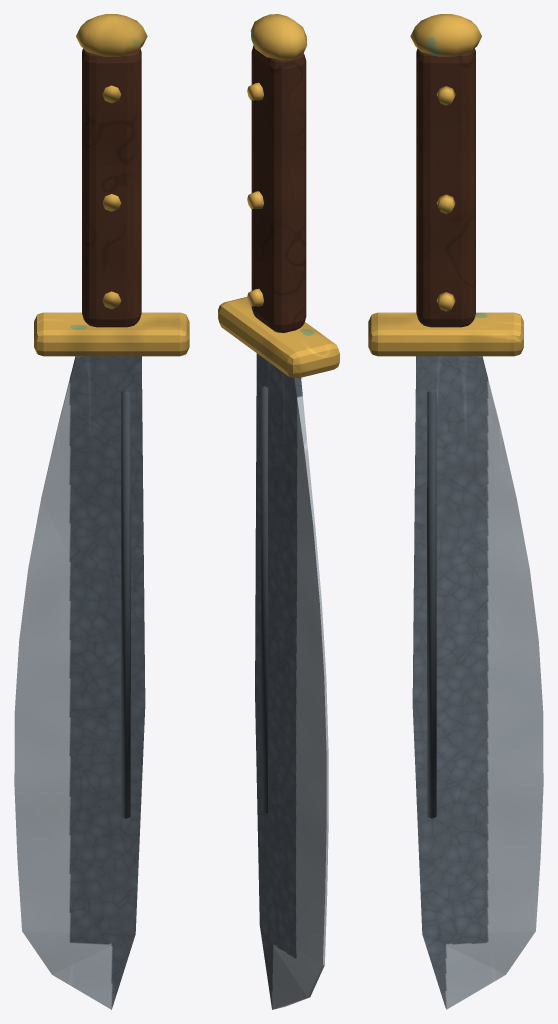
Rendered from tool_iron_machete.glb.
3 renders of one model, left to right at view 1: azimuth 90°, elevation 25°; view 2: azimuth 210°, elevation 25°; view 3: azimuth 270°, elevation 25°, orthographic.
Parts seen in each view (by area): view 1: Tool; view 2: Tool; view 3: Tool.
Part boxes in pixels (x1=…): Tool: x1=14, y1=14, x2=189, y2=1009; Tool: x1=218, y1=14, x2=339, y2=1009; Tool: x1=368, y1=14, x2=543, y2=1009.
Size of the model in its own units: 0.052 by 0.913 by 0.1464.
1 material, 1 textured.
